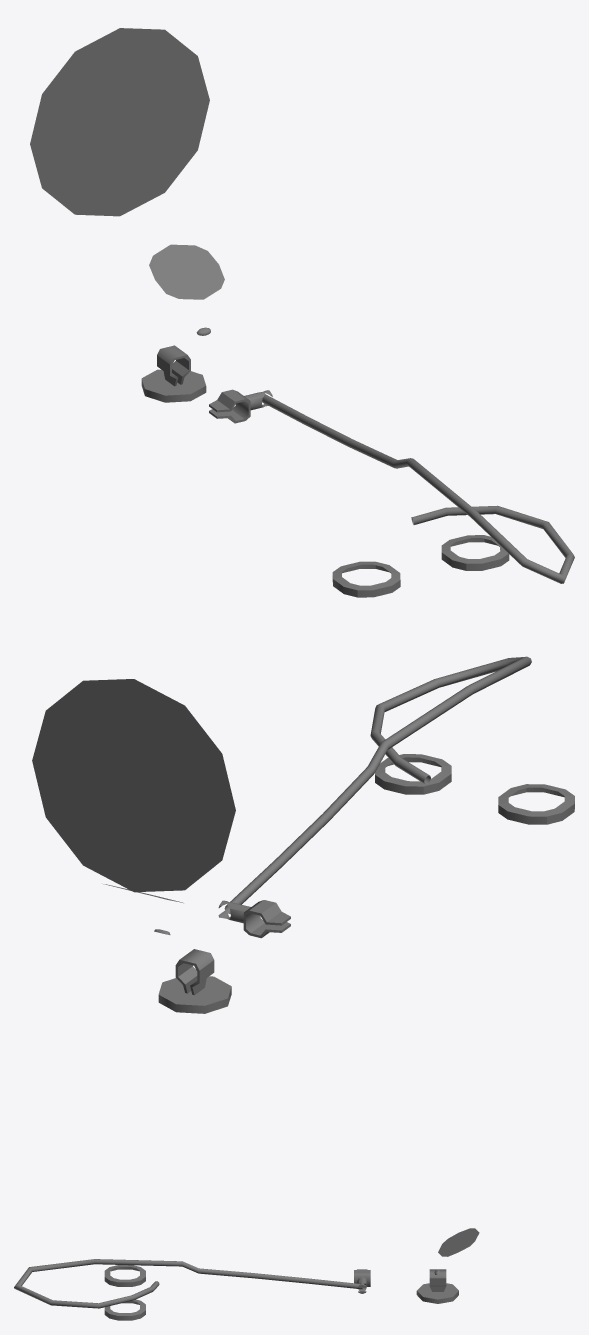
The model's file is Fit_HuaSa_1X6_on.FBX.
3 renders of one model, top to bottom at view 1: azimuth 30°, elevation 25°; view 2: azimuth 150°, elevation 25°; view 3: azimuth 270°, elevation 25°, orthographic. The views are drawn at different scales.
Parts seen in each view (by area): view 1: Box002; view 2: Box002; view 3: Box002.
Part boxes in pixels (bbox=[...]): Box002: bbox=[30, 28, 574, 597]; Box002: bbox=[32, 656, 574, 1013]; Box002: bbox=[14, 1228, 479, 1320].
Size of the model in its own units: 1.81 by 2.77 by 6.8.
